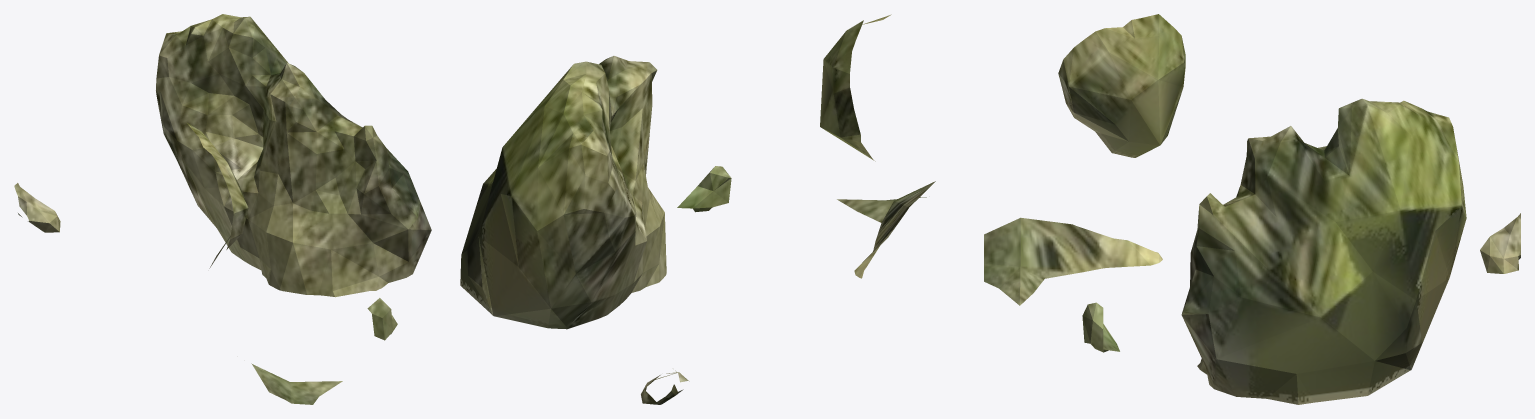
3 views of the same model, side by side, from view 1: azimuth 30°, elevation 25°; view 2: azimuth 150°, elevation 25°; view 3: azimuth 270°, elevation 25° (orthographic). The views are drawn at different scales.
Size of the model in its own units: 3.79 by 2.97 by 5.9.
2 materials, 2 textured.
